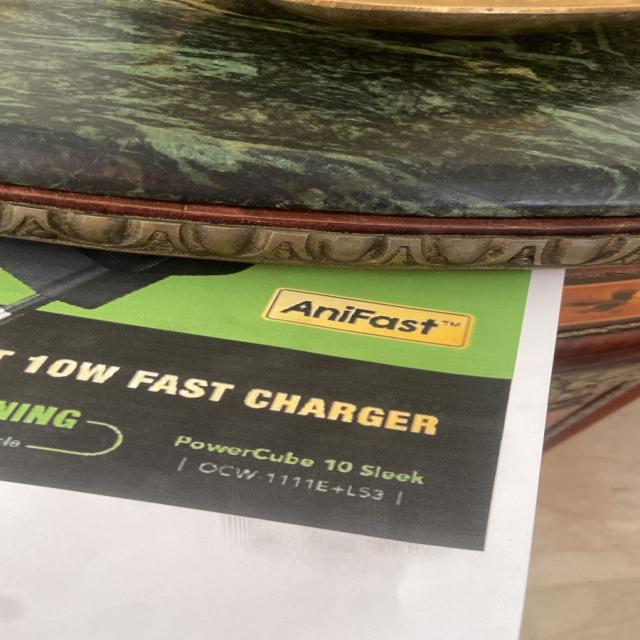PowerCube 10 Sleek OCW-1111ExL53: (169, 431, 437, 514)
